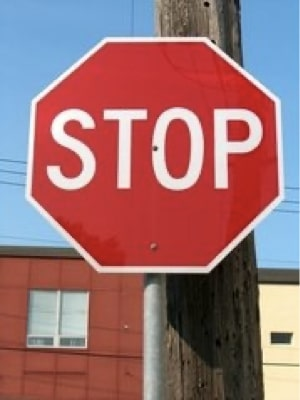StopSign: (23, 34, 287, 275)
